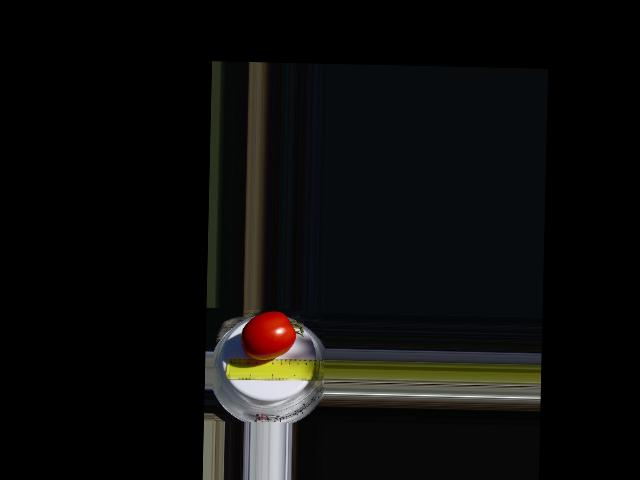tomato: (241, 310, 297, 361)
